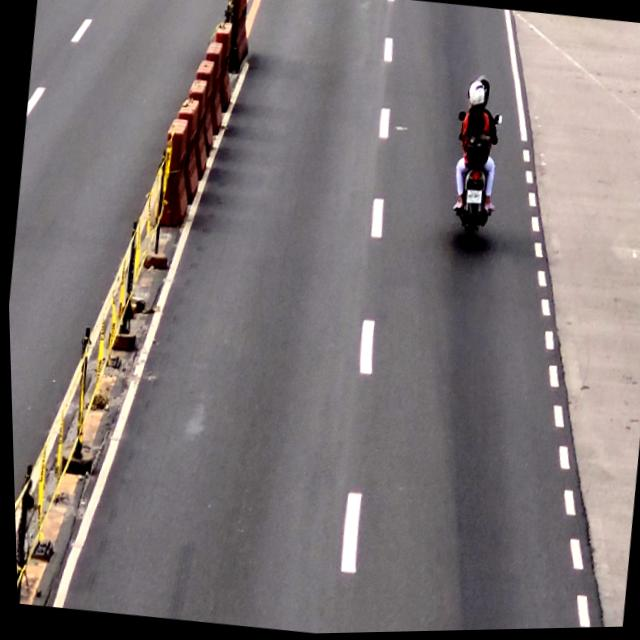License-Plate: (464, 189, 482, 207)
Motorcycle: (442, 110, 506, 250)
